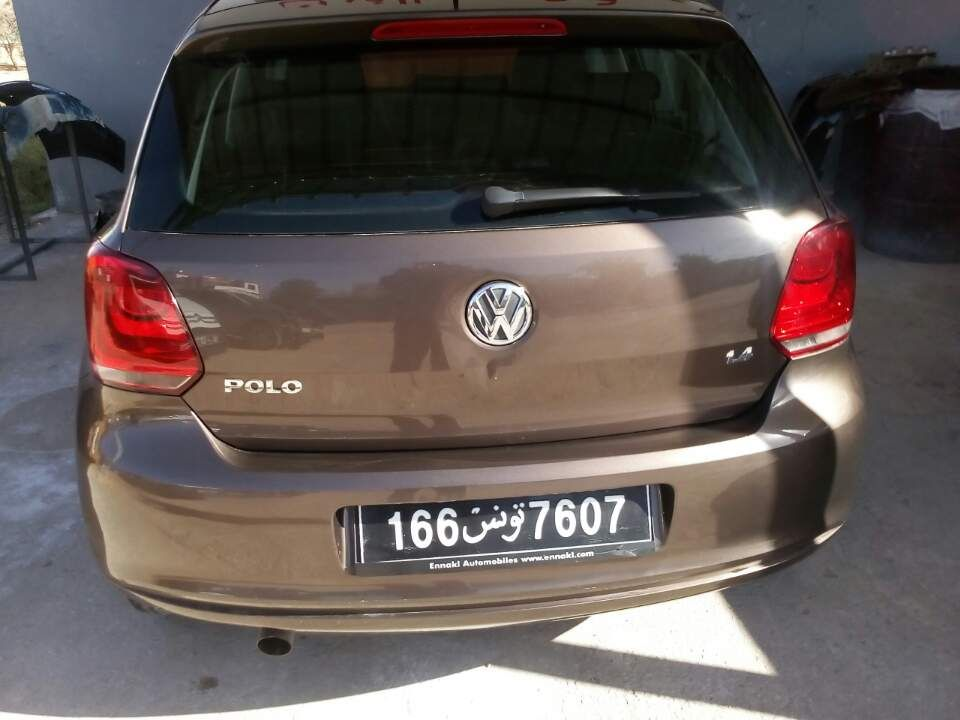LP: (354, 481, 656, 564)
